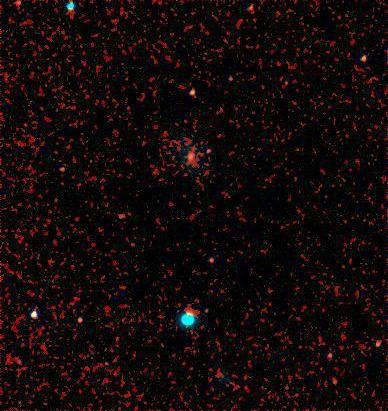star: (174, 139, 204, 169)
